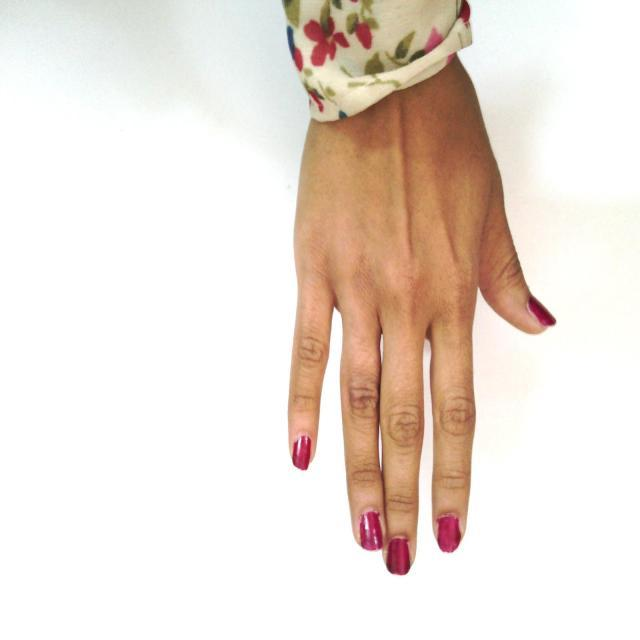Fingernail: (360, 511, 383, 551), (528, 295, 556, 325), (437, 515, 459, 553), (388, 538, 410, 575), (293, 436, 311, 470)
